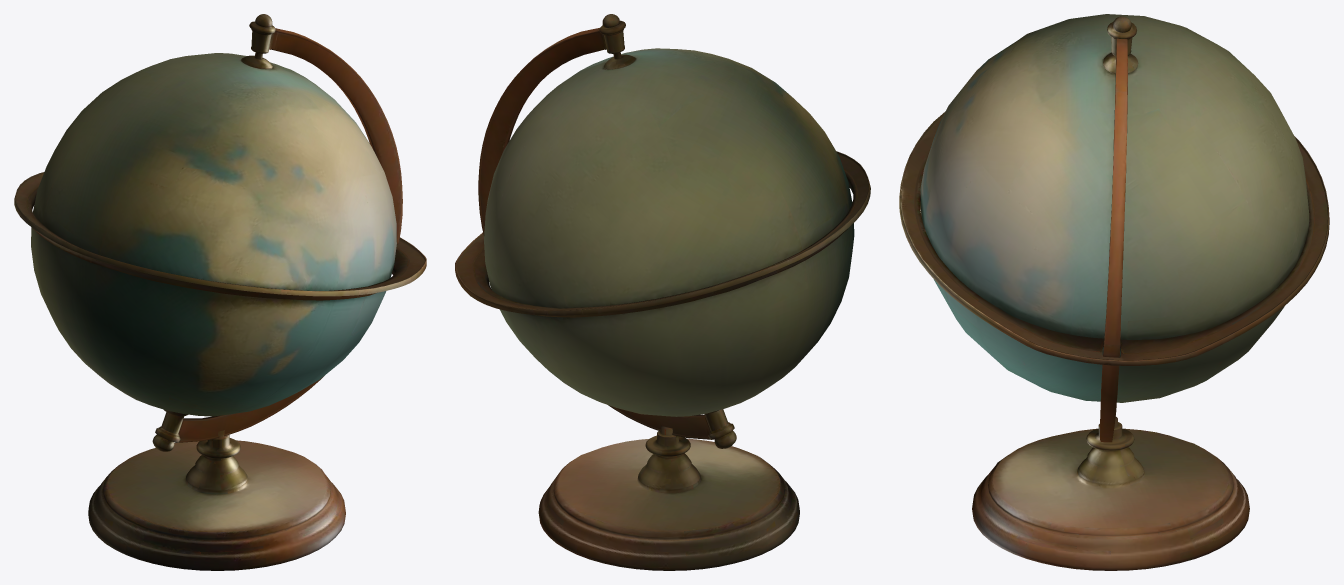
File: desk_globe.glb
The picture shows the model from 3 angles, left to right: view 1: azimuth 30°, elevation 25°; view 2: azimuth 150°, elevation 25°; view 3: azimuth 270°, elevation 25°; orthographic projection. The views are drawn at different scales.
Parts seen in each view (by area): view 1: a43443bf_3d8c_4090_a438_4afef24d9289; view 2: a43443bf_3d8c_4090_a438_4afef24d9289; view 3: a43443bf_3d8c_4090_a438_4afef24d9289.
Boxes of the visible parts, x1=… form: a43443bf_3d8c_4090_a438_4afef24d9289: x1=14, y1=14, x2=426, y2=570; a43443bf_3d8c_4090_a438_4afef24d9289: x1=455, y1=14, x2=870, y2=570; a43443bf_3d8c_4090_a438_4afef24d9289: x1=899, y1=14, x2=1329, y2=570.
Bounding box in the file's own units: 0.7749 × 0.9995 × 0.7456.
1 material, 1 textured.
